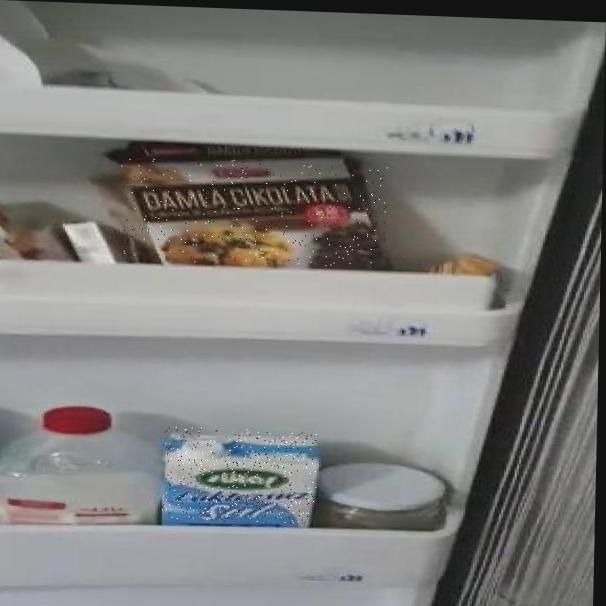chocolate chips: (117, 154, 388, 270)
milk: (162, 426, 318, 525)
